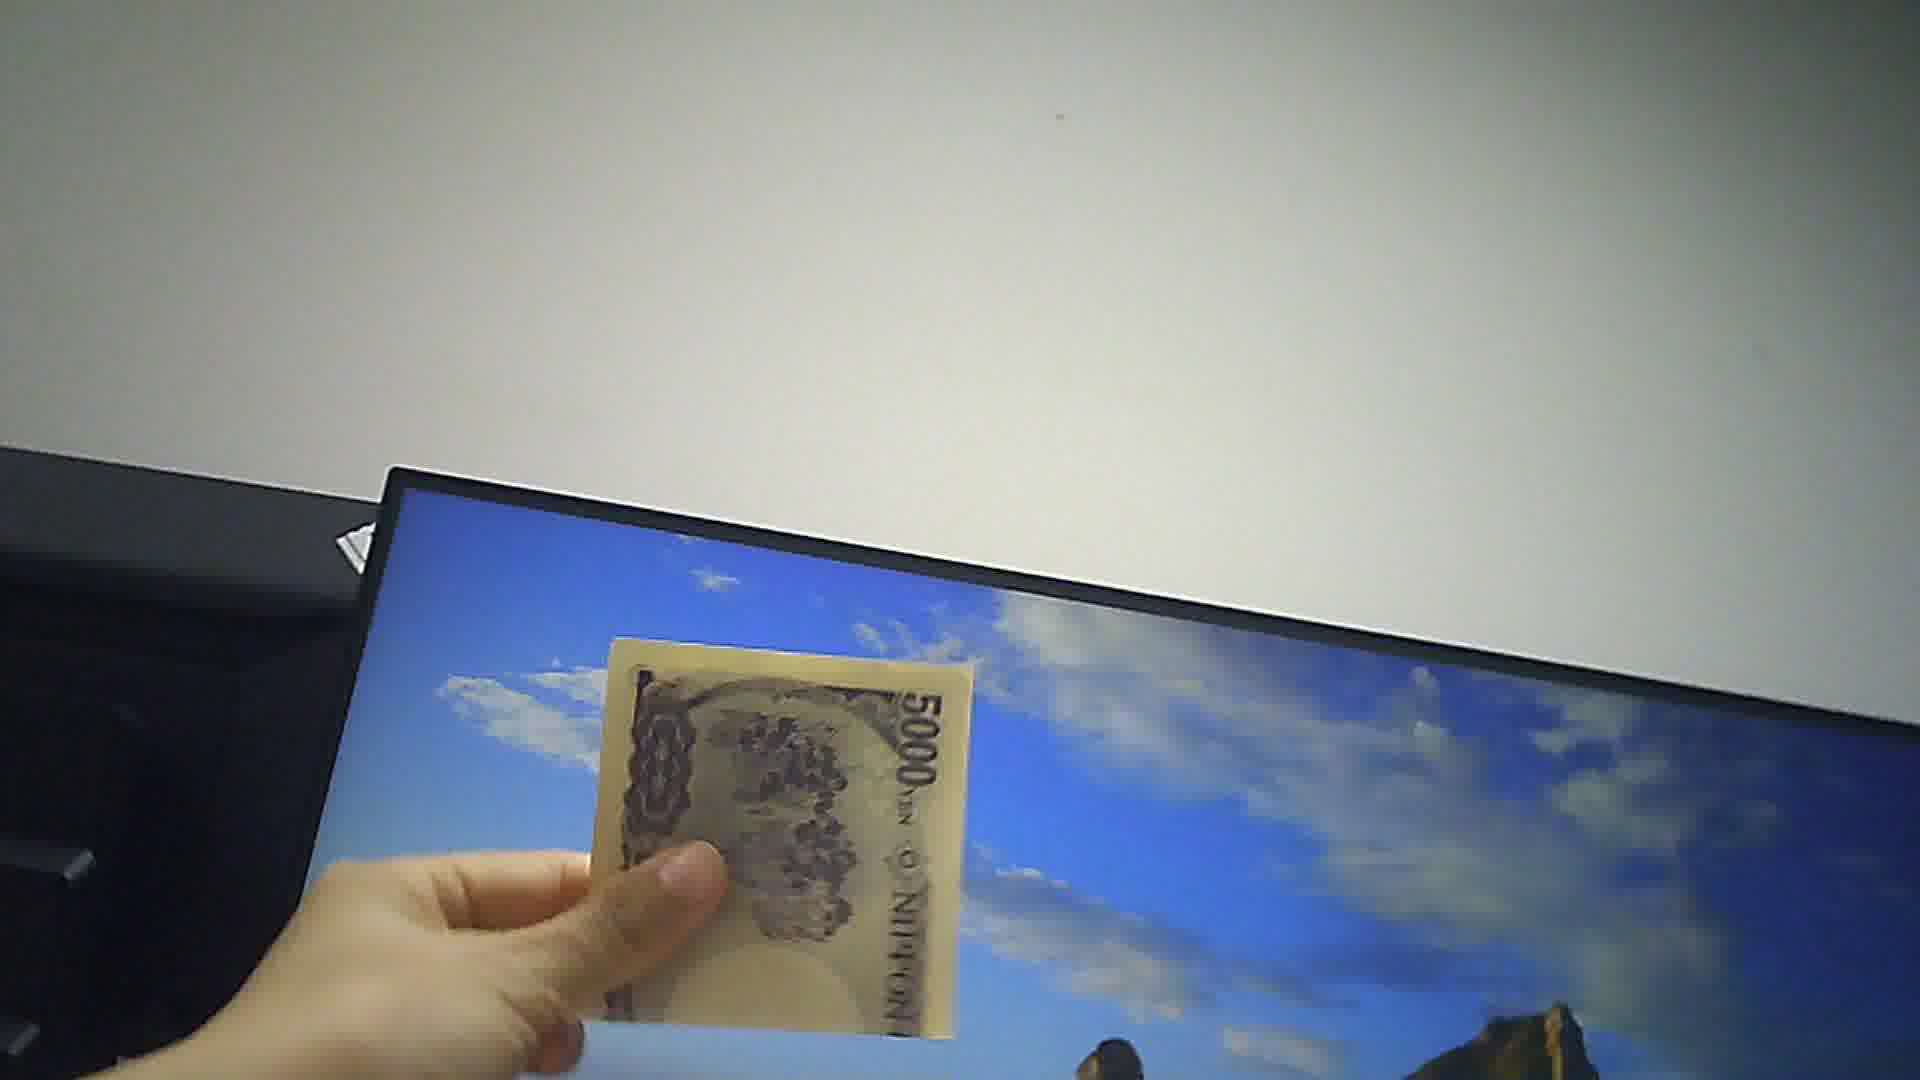5,000 Yen: (568, 628, 973, 1059)
